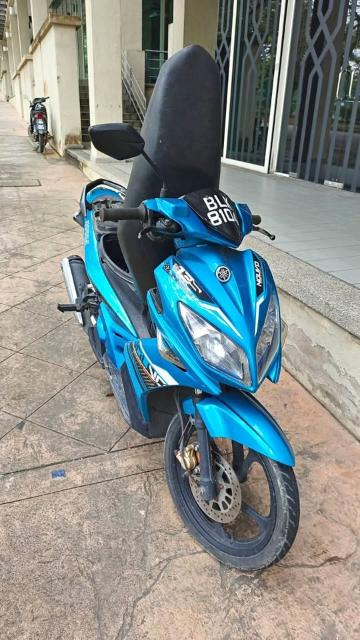License_Plate: (197, 196, 248, 233)
motorcycle: (58, 44, 302, 572), (23, 94, 53, 154)
